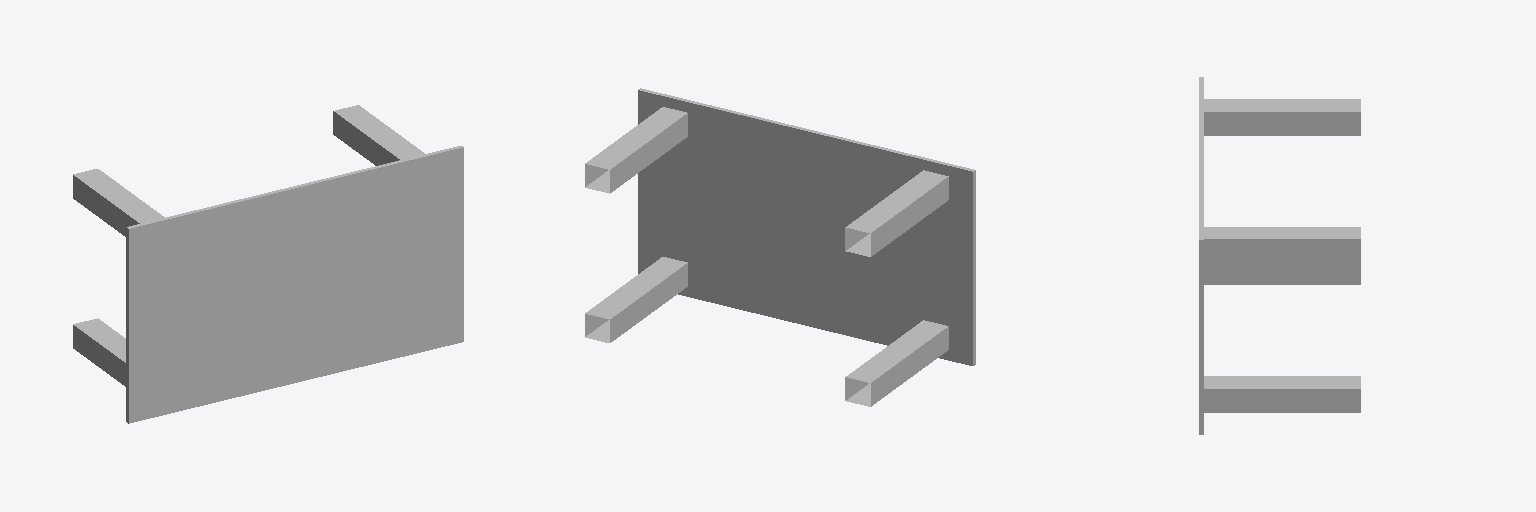
Rendered from RecTable_Col.obj.
3 renders of one model, left to right at view 1: azimuth 30°, elevation 25°; view 2: azimuth 150°, elevation 25°; view 3: azimuth 270°, elevation 25°, orthographic.
Parts seen in each view (by area): view 1: Cube, Cube.004, Cube.002, Cube.003; view 2: Cube, Cube.003, Cube.004, Cube.001, Cube.002; view 3: Cube.001, Cube.004, Cube.002, Cube.003, Cube.
Part boxes in pixels (bbox=[...]): Cube: bbox=[126, 146, 463, 423]; Cube.004: bbox=[73, 169, 164, 236]; Cube.002: bbox=[333, 105, 424, 165]; Cube.003: bbox=[73, 318, 125, 386]; Cube: bbox=[638, 88, 975, 365]; Cube.003: bbox=[845, 320, 948, 406]; Cube.004: bbox=[845, 170, 948, 256]; Cube.001: bbox=[585, 257, 687, 342]; Cube.002: bbox=[585, 107, 687, 193]; Cube.001: bbox=[1204, 376, 1360, 412]; Cube.004: bbox=[1204, 99, 1360, 135]; Cube.002: bbox=[1204, 227, 1360, 262]; Cube.003: bbox=[1204, 263, 1360, 284]; Cube: bbox=[1199, 77, 1203, 434].
Size of the model in its own units: 1.8 by 1 by 0.75.